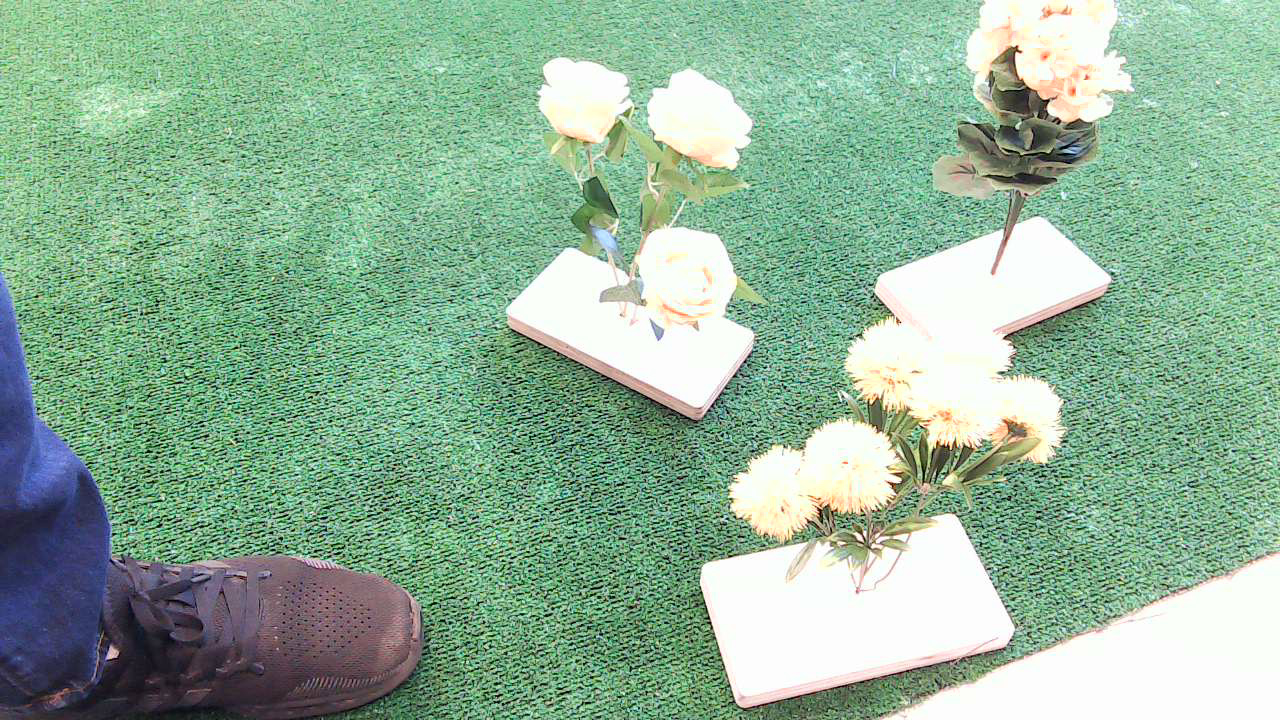dandelion: (730, 319, 1086, 546)
geranium: (921, 6, 1148, 204)
rose: (510, 53, 787, 347)
